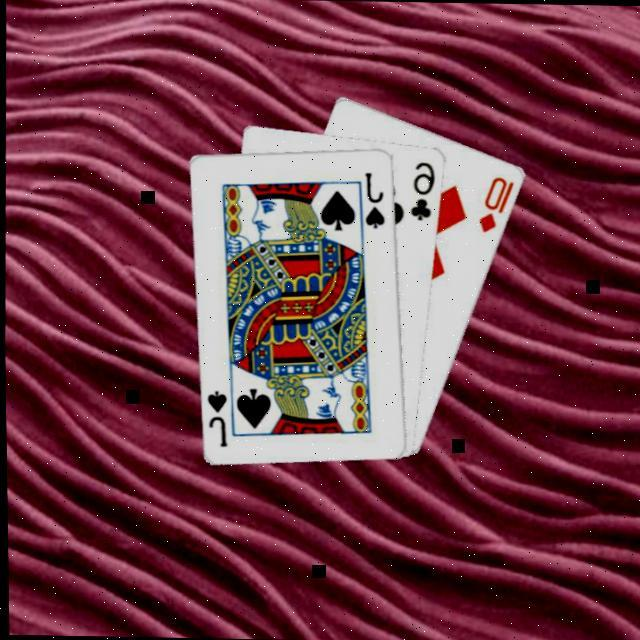10D: (476, 172, 518, 234)
6C: (408, 156, 440, 222)
JS: (362, 168, 390, 230), (204, 386, 232, 448)
